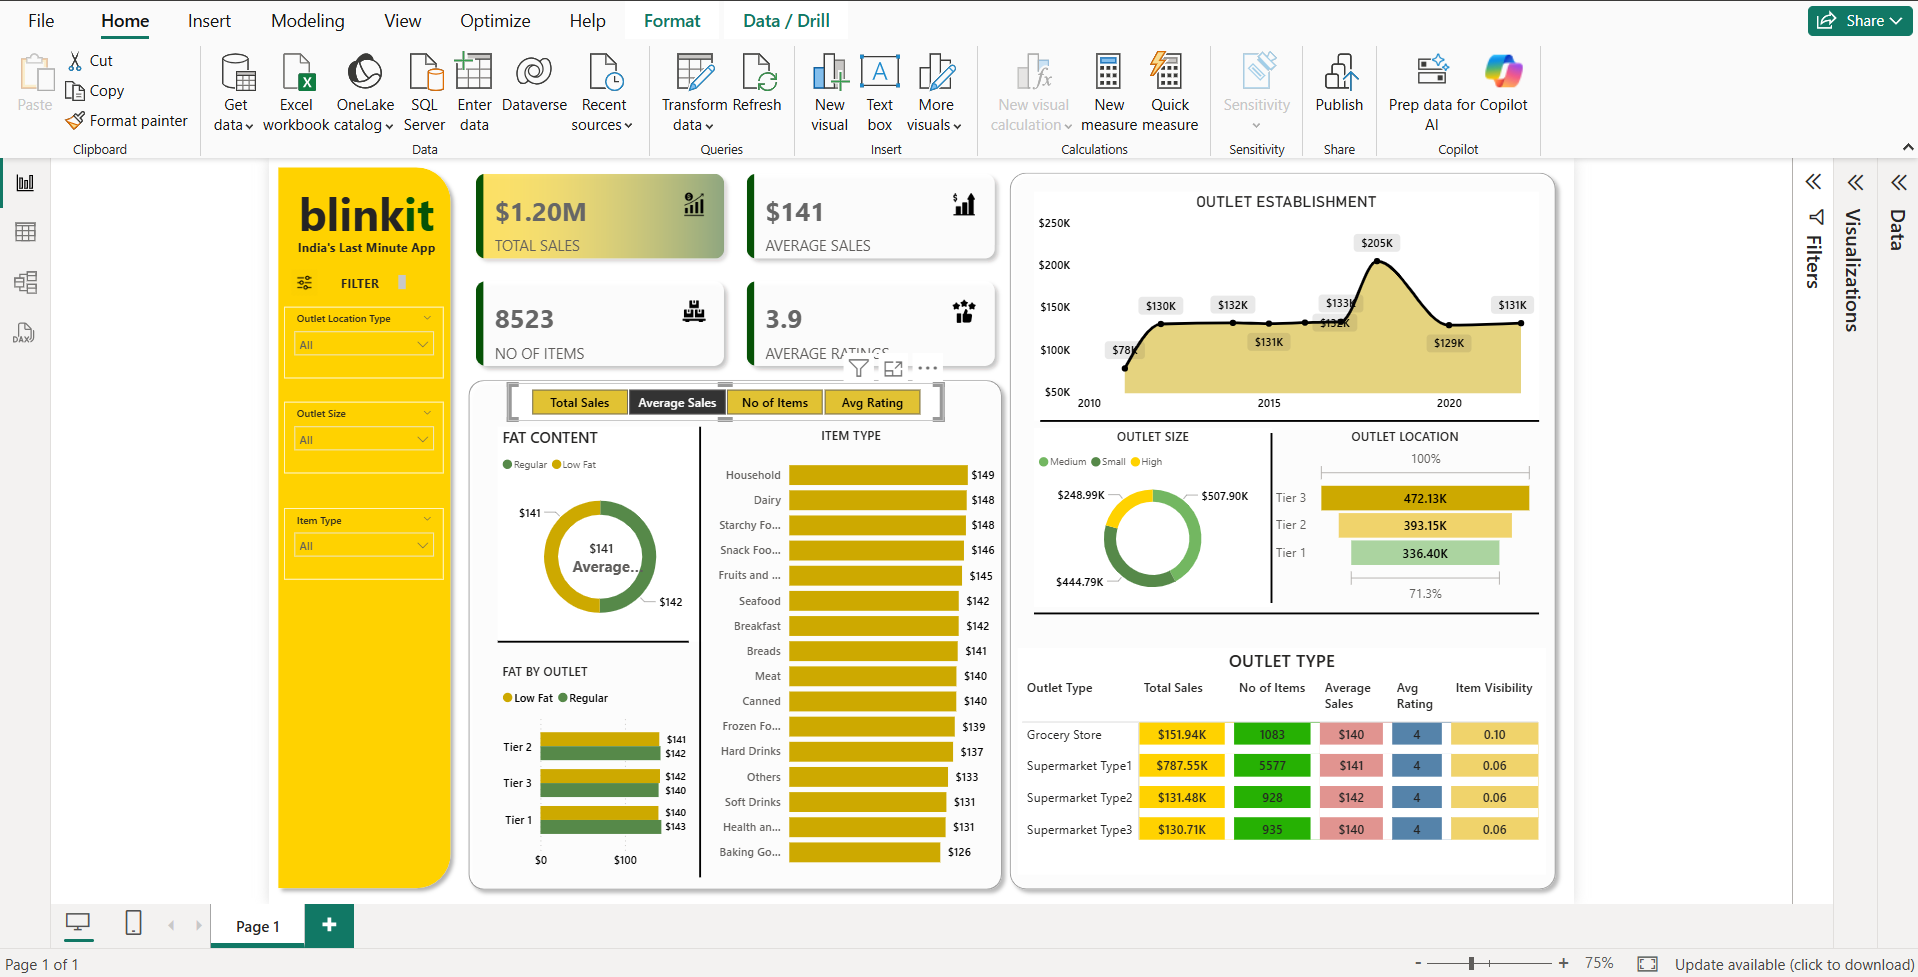

Layout of this report page (visuals, bound fields, positions):
{"tool":"powerbi","page":{"name":"Page 1","canvas":[1400,800],"ordinal":0},"visuals":[{"type":"shape","box":[0,0,205,793.3],"z":0},{"type":"textbox","box":[18.3,21.7,171.7,75],"z":1000},{"type":"textbox","box":[18.3,81.7,171.7,30],"z":2000},{"type":"cardVisual","fields":{"Data":["BlinkIT Grocery Data.Total Sales","BlinkIT Grocery Data.Average Sales","BlinkIT Grocery Data.No of Items","BlinkIT Grocery Data.Avg Rating"]},"box":[205,0,590,241.7],"z":3000},{"type":"shape","box":[205.1,229.2,589.8,564.3],"z":4000},{"type":"donutChart","title":"FAT CONTENT","fields":{"Y":["BlinkIT Grocery Data.Total Sales"],"Category":["BlinkIT Grocery Data.Item Fat Content"]},"box":[245,288.3,220,230],"z":5000},{"type":"slicer","fields":{"Values":["Metrics.Metrics"]},"box":[256.7,241.7,466.7,40],"z":6000},{"type":"cardVisual","fields":{"Data":["BlinkIT Grocery Data.Total Sales"]},"box":[291.7,375,128.3,106.7],"z":7000},{"type":"clusteredBarChart","title":"FAT BY OUTLET","fields":{"Y":["BlinkIT Grocery Data.Total Sales"],"Category":["BlinkIT Grocery Data.Outlet Location Type"],"Series":["BlinkIT Grocery Data.Item Fat Content"]},"box":[245,541.7,220,230],"z":8000},{"type":"shape","box":[245,511.7,205,13.3],"z":9000},{"type":"shape","box":[373.3,288.3,176.7,483.3],"z":10000},{"type":"barChart","title":"ITEM TYPE","fields":{"Y":["BlinkIT Grocery Data.Total Sales"],"Category":["BlinkIT Grocery Data.Item Type"]},"box":[465,288.3,318.3,483.3],"z":11000},{"type":"shape","box":[785,6.7,603.3,786.7],"z":12000},{"type":"lineChart","title":"OUTLET ESTABLISHMENT","fields":{"Y":["BlinkIT Grocery Data.Total Sales"],"Category":["BlinkIT Grocery Data.Outlet Establishment Year"]},"box":[820.4,36.2,541.6,245.3],"z":13000},{"type":"donutChart","title":"OUTLET SIZE","fields":{"Y":["BlinkIT Grocery Data.Total Sales"],"Category":["BlinkIT Grocery Data.Outlet Size"]},"box":[820,290,255,191.7],"z":14000},{"type":"shape","box":[826.7,245,535,73.3],"z":15000},{"type":"funnel","title":"OUTLET LOCATION","fields":{"Y":["Sum(BlinkIT Grocery Data.Sales)"],"Category":["BlinkIT Grocery Data.Outlet Location Type"]},"box":[1075,290,286.7,191.7],"z":16000},{"type":"shape","box":[924.9,294.9,300.3,182.3],"z":17000},{"type":"shape","box":[820,451.7,541.7,73.3],"z":18000},{"type":"pivotTable","title":"OUTLET TYPE","fields":{"Rows":["BlinkIT Grocery Data.Outlet Type"],"Values":["BlinkIT Grocery Data.Total Sales","BlinkIT Grocery Data.No of Items","BlinkIT Grocery Data.Average Sales","BlinkIT Grocery Data.Avg Rating","Avg(BlinkIT Grocery Data.Item Visibility)"]},"box":[803.3,525,566.7,243.3],"z":19000},{"type":"slicer","fields":{"Values":["BlinkIT Grocery Data.Outlet Location Type"]},"box":[16.1,159.5,171.6,76.4],"z":20000},{"type":"slicer","fields":{"Values":["BlinkIT Grocery Data.Outlet Size"]},"box":[16.1,261.4,171.6,76.4],"z":21000},{"type":"slicer","fields":{"Values":["BlinkIT Grocery Data.Item Type"]},"box":[16.1,375.3,171.6,76.4],"z":22000},{"type":"textbox","box":[52.3,120.6,99.2,30.8],"z":22001},{"type":"image","box":[18.8,107.2,38.9,52.3],"z":22002}]}

Visuals, with their boxes on the page's 1400x800 design canvas (x1, y1, x2, y2). These are canvas units, not pixel positions in the 1918x977 screenshot, which may show the page scaled, cropped or inside an application window:
shape: (x1=0, y1=0, x2=205, y2=793)
textbox: (x1=18, y1=22, x2=190, y2=97)
textbox: (x1=18, y1=82, x2=190, y2=112)
cardVisual - BlinkIT Grocery Data.Total Sales x BlinkIT Grocery Data.Average Sales: (x1=205, y1=0, x2=795, y2=242)
shape: (x1=205, y1=229, x2=795, y2=794)
"FAT CONTENT" donutChart: (x1=245, y1=288, x2=465, y2=518)
slicer - Metrics.Metrics: (x1=257, y1=242, x2=723, y2=282)
cardVisual - BlinkIT Grocery Data.Total Sales: (x1=292, y1=375, x2=420, y2=482)
"FAT BY OUTLET" clusteredBarChart: (x1=245, y1=542, x2=465, y2=772)
shape: (x1=245, y1=512, x2=450, y2=525)
shape: (x1=373, y1=288, x2=550, y2=772)
"ITEM TYPE" barChart: (x1=465, y1=288, x2=783, y2=772)
shape: (x1=785, y1=7, x2=1388, y2=793)
"OUTLET ESTABLISHMENT" lineChart: (x1=820, y1=36, x2=1362, y2=282)
"OUTLET SIZE" donutChart: (x1=820, y1=290, x2=1075, y2=482)
shape: (x1=827, y1=245, x2=1362, y2=318)
"OUTLET LOCATION" funnel: (x1=1075, y1=290, x2=1362, y2=482)
shape: (x1=925, y1=295, x2=1225, y2=477)
shape: (x1=820, y1=452, x2=1362, y2=525)
"OUTLET TYPE" pivotTable: (x1=803, y1=525, x2=1370, y2=768)
slicer - BlinkIT Grocery Data.Outlet Location Type: (x1=16, y1=160, x2=188, y2=236)
slicer - BlinkIT Grocery Data.Outlet Size: (x1=16, y1=261, x2=188, y2=338)
slicer - BlinkIT Grocery Data.Item Type: (x1=16, y1=375, x2=188, y2=452)
textbox: (x1=52, y1=121, x2=152, y2=151)
image: (x1=19, y1=107, x2=58, y2=160)
